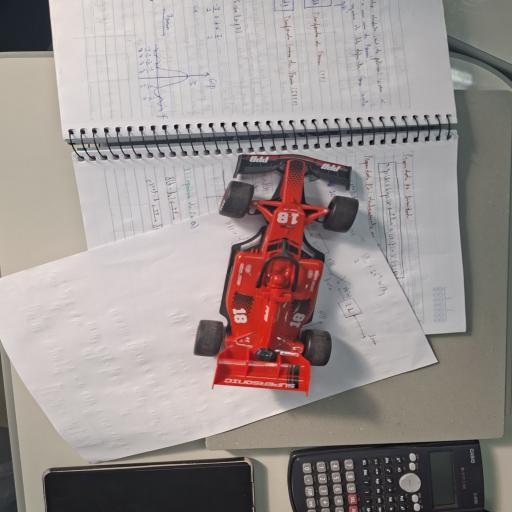carro: (194, 156, 358, 393)
